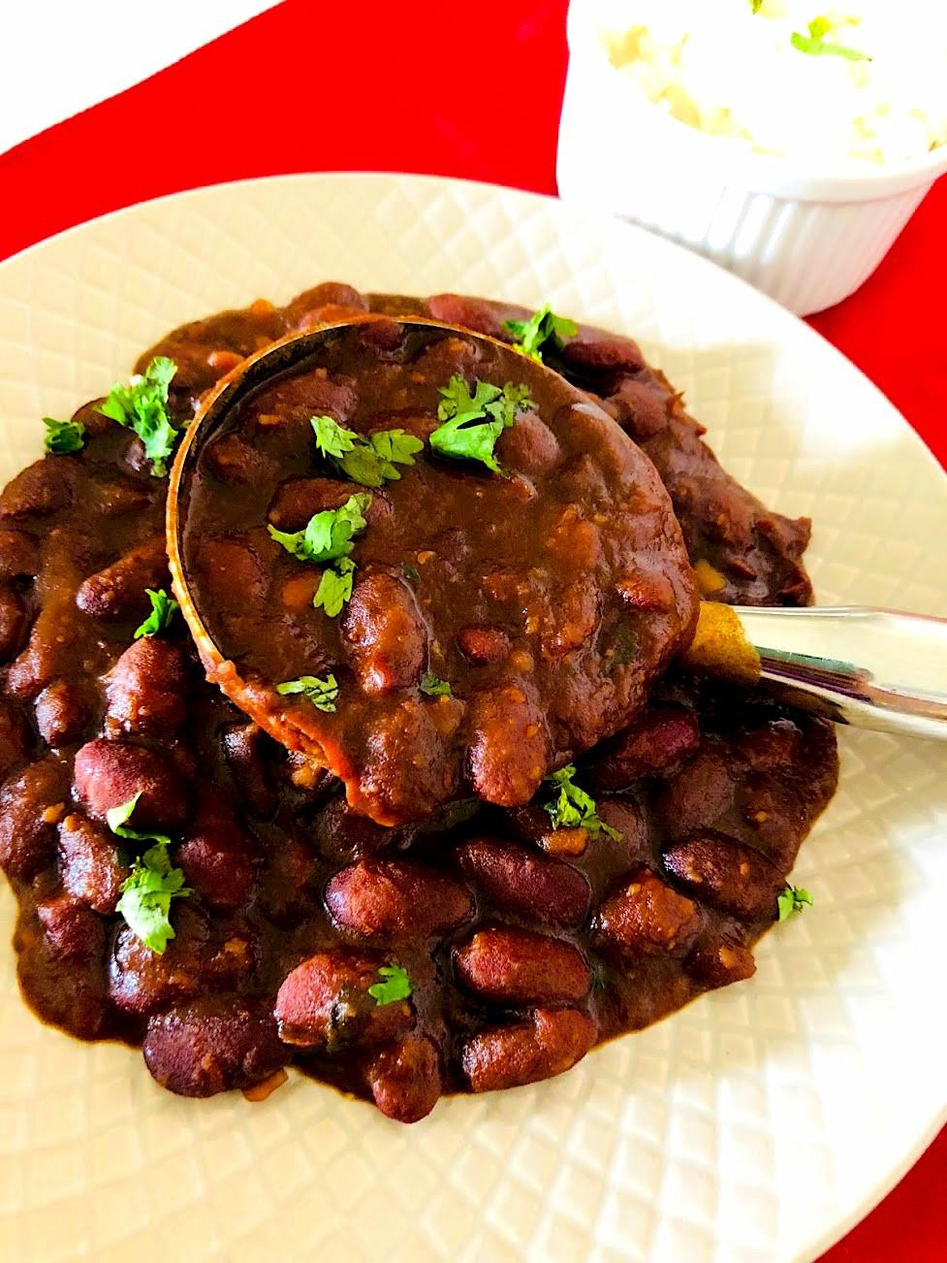RajmaCurry: (11, 275, 844, 1141)
